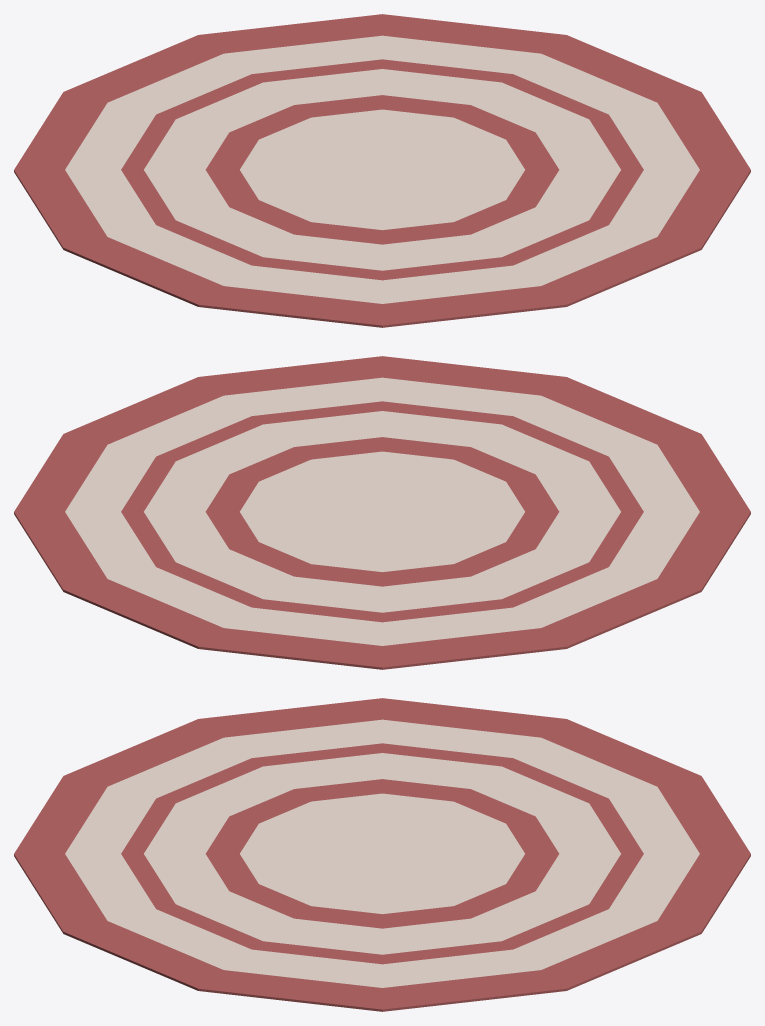
Rendered from Carpet_4.fbx.
The picture shows the model from 3 angles, top to bottom: view 1: azimuth 30°, elevation 25°; view 2: azimuth 150°, elevation 25°; view 3: azimuth 270°, elevation 25°; orthographic projection.
Visible parts, largest first — view 1: Carpet_4; view 2: Carpet_4; view 3: Carpet_4.
Part boxes in pixels (<box>): Carpet_4: <box>14,14,750,327</box>; Carpet_4: <box>14,356,750,669</box>; Carpet_4: <box>14,698,750,1011</box>.
Size of the model in its own units: 271 by 271 by 0.9279.
